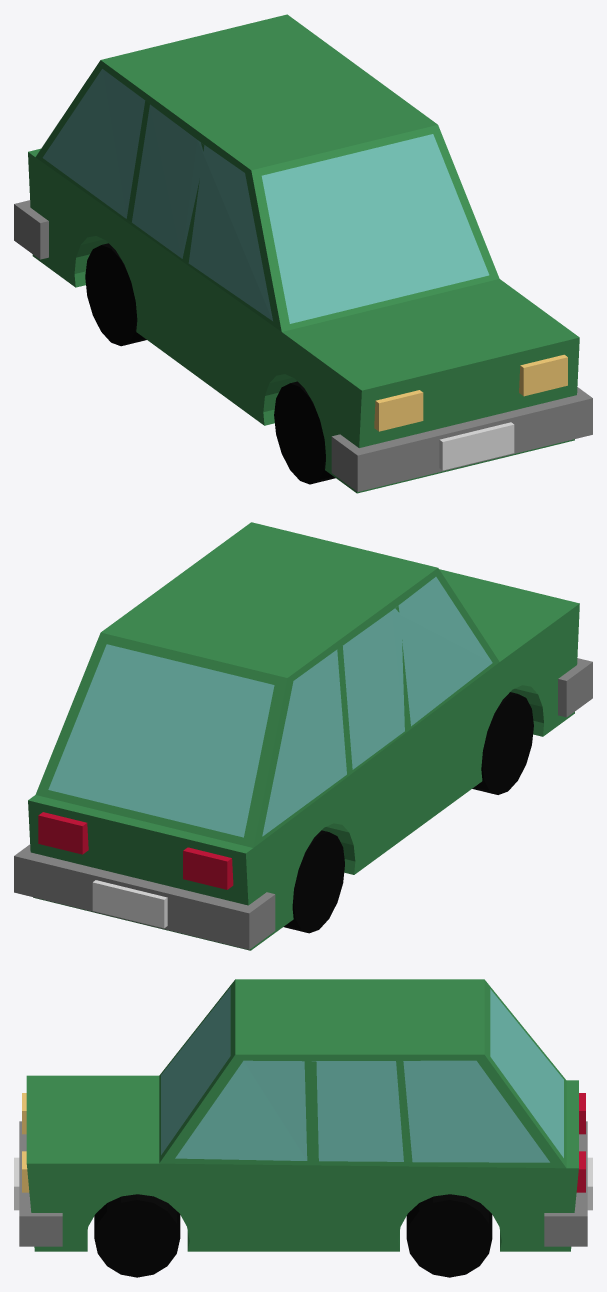
Rendered from vehicle-fix-kombi_draco.glb.
3 views of the same model, one above another, from view 1: azimuth 30°, elevation 25°; view 2: azimuth 150°, elevation 25°; view 3: azimuth 270°, elevation 25° (orthographic). The views are drawn at different scales.
Parts seen in each view (by area): view 1: Cube; view 2: Cube; view 3: Cube.
Part boxes in pixels (<box>): Cube: <box>14,14,592,493</box>; Cube: <box>14,522,592,950</box>; Cube: <box>14,979,592,1277</box>.
Bounding box in the file's own units: 0.5192 × 0.558 × 1.34.
